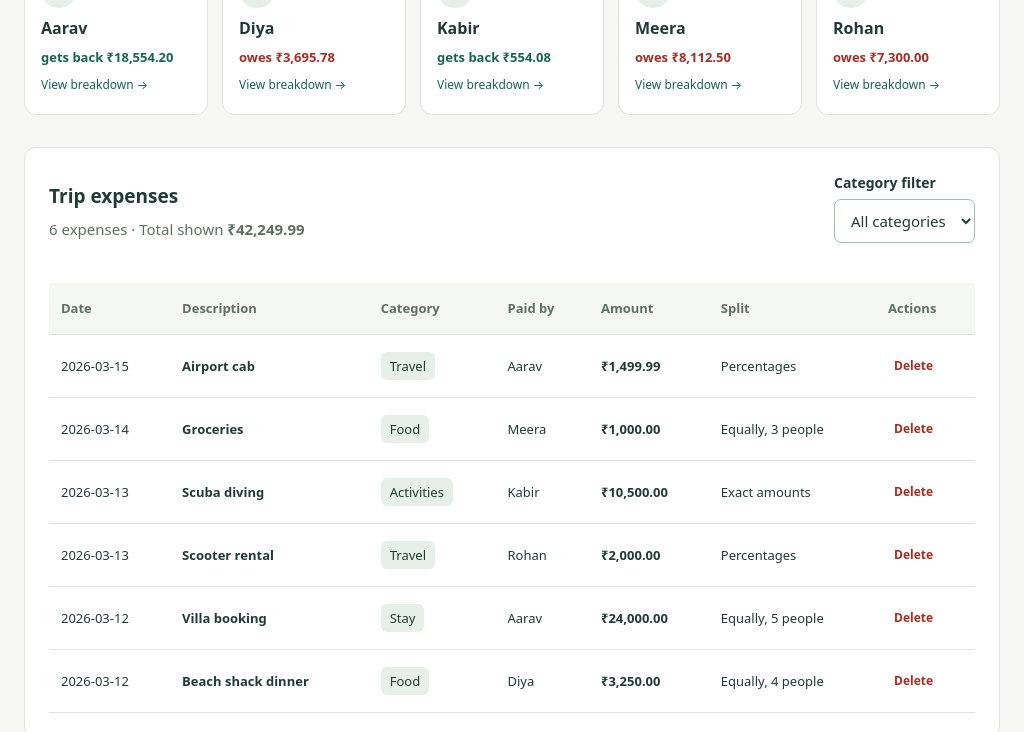
opens details by clicking a row, and deletion does not open them
(page scrolled)
Click the text "Airport cab": (512, 366) 49,335 -> 975,398
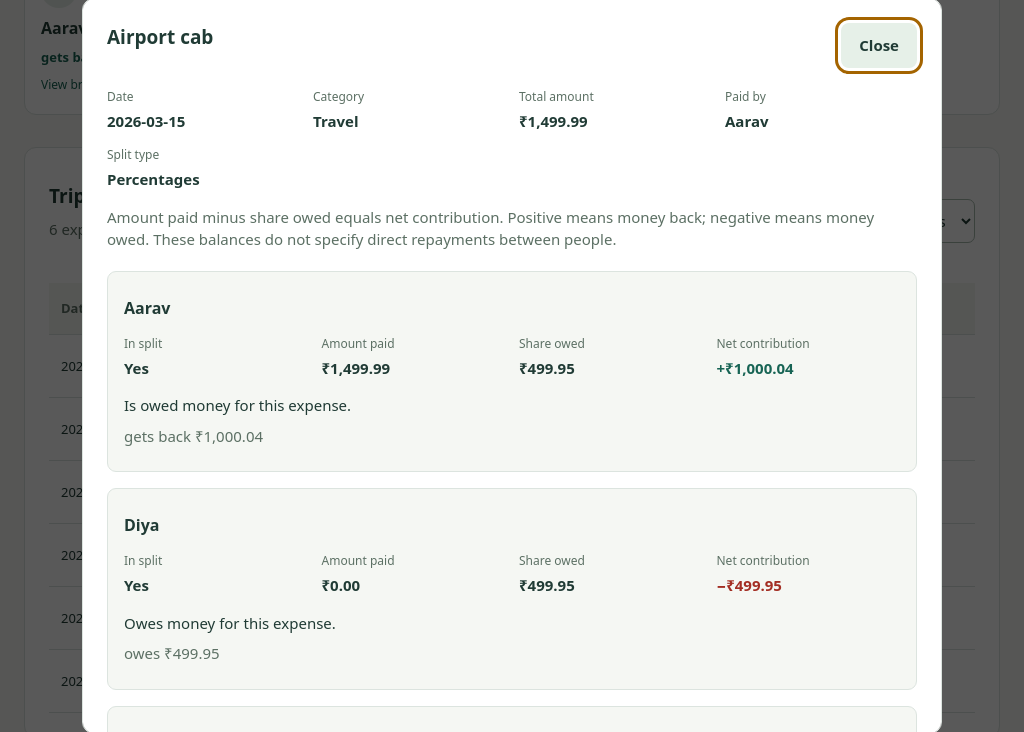
Now the dialog "Airport cab" shows "Percentages", box 107,169 -> 200,189
Click the button "Close": (879, 45) 841,23 -> 917,68
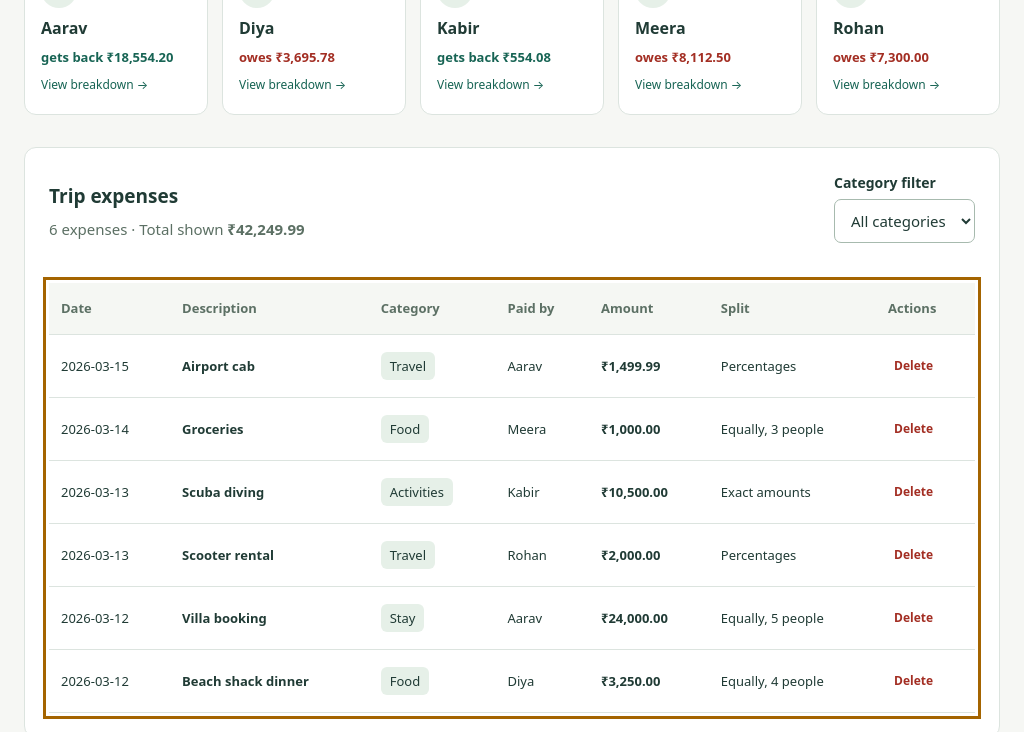
Click the button with aria-label "Delete Airport cab": (914, 366) 888,351 -> 939,381
(page scrolled)
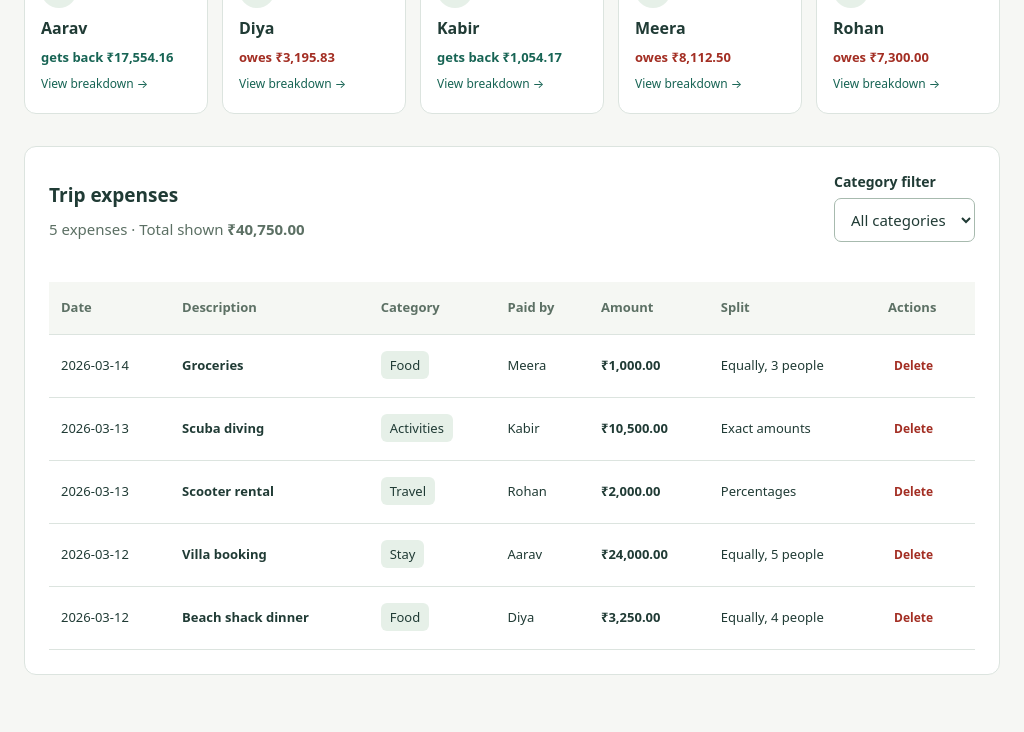
Now the button "Airport cab" is gone
